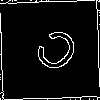C: (25, 25, 83, 83)
